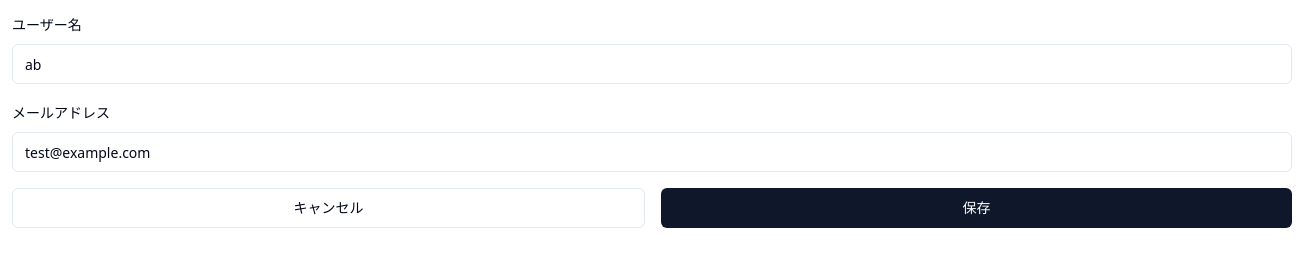
Test: UserSettingsForm › should display validation error for invalid userName
The width and height of the screenshot is (1304, 273).
Click the button "保存": (976, 208) [661,188,1292,228]
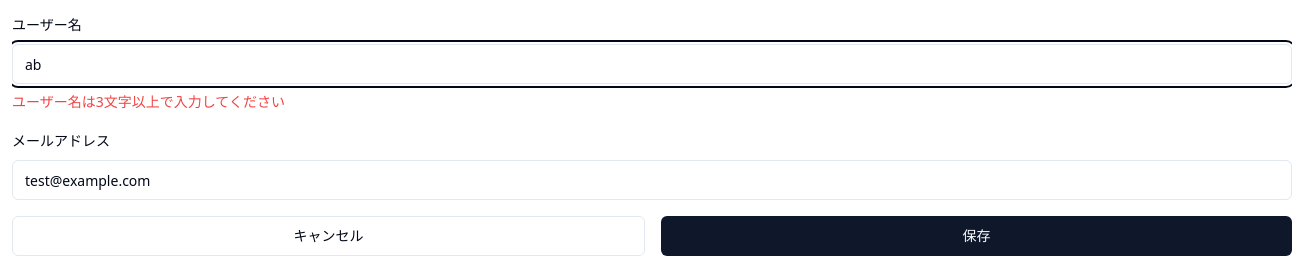
Result: the text "ユーザー名は3文字以上で入力してください" is shown at [12,92,285,111]
